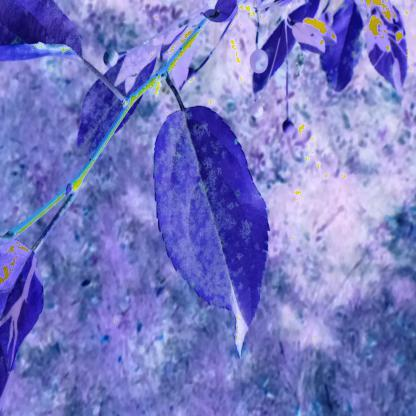Apple Scab Leaf: (151, 100, 283, 366), (75, 30, 168, 186), (318, 3, 370, 100)
